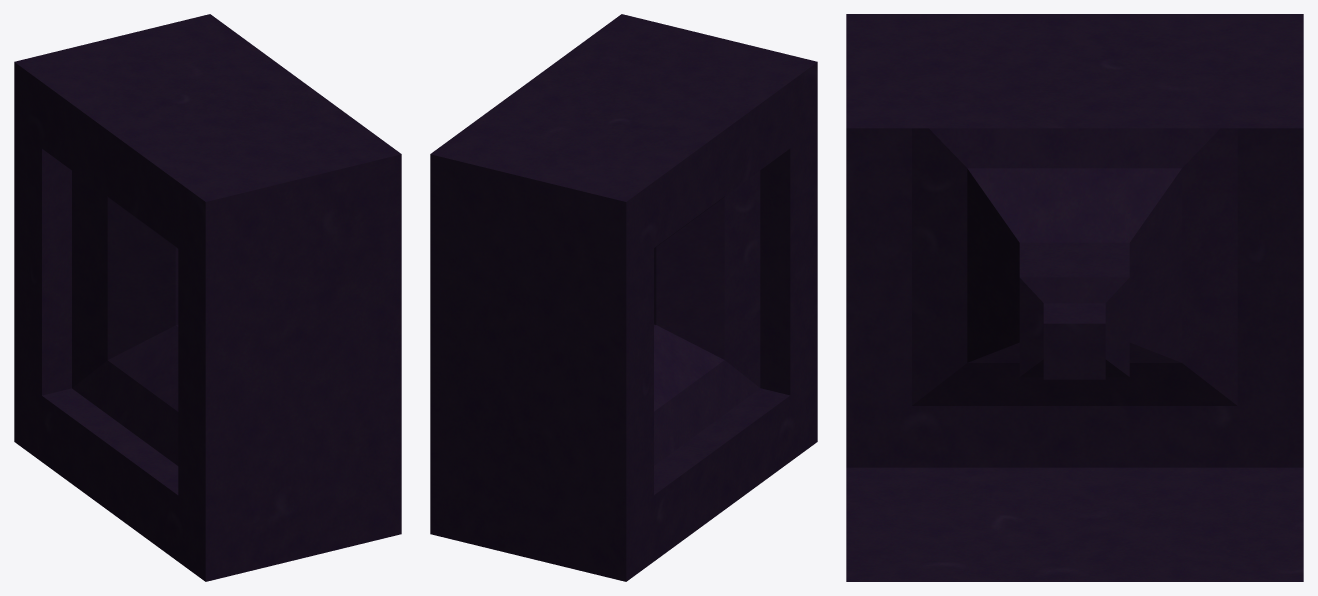
The model's file is GenSlot.fbx.
3 views of the same model, side by side, from view 1: azimuth 30°, elevation 25°; view 2: azimuth 150°, elevation 25°; view 3: azimuth 270°, elevation 25° (orthographic). The views are drawn at different scales.
Visible parts, largest first — view 1: GenSlot0; view 2: GenSlot0; view 3: GenSlot0.
Boxes of the visible parts, left/top/right/bottom form: GenSlot0: left=14, top=14, right=401, bottom=581; GenSlot0: left=430, top=14, right=817, bottom=581; GenSlot0: left=846, top=14, right=1303, bottom=581.
Bounding box in the file's own units: 7.28 × 13.49 × 12.33.
